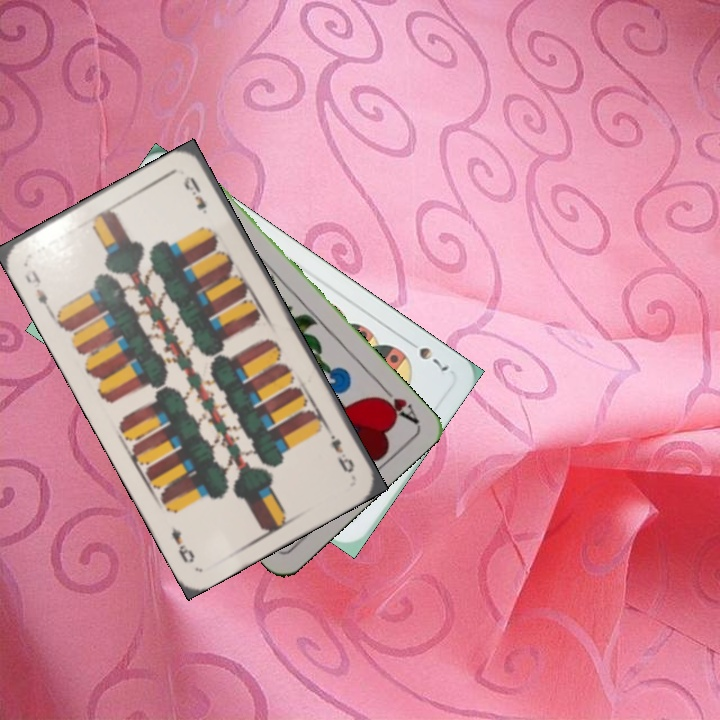E9: (324, 424, 358, 476), (20, 266, 54, 314)
HA: (371, 378, 421, 426)
S7: (401, 334, 451, 374)
